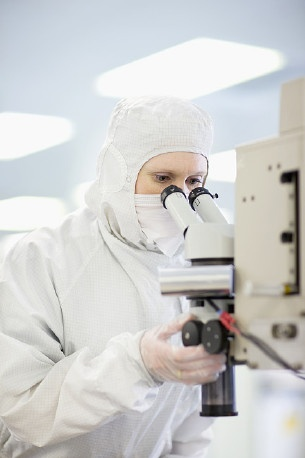Mask: (124, 149, 222, 247)
